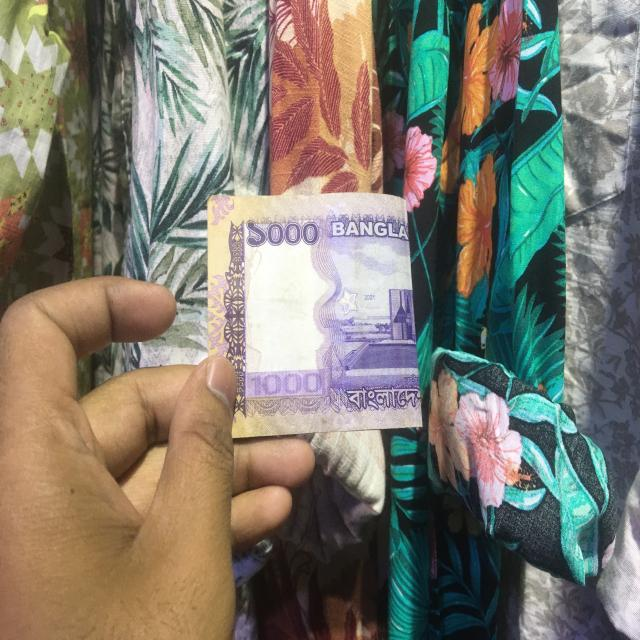Taka: (208, 184, 428, 431)
